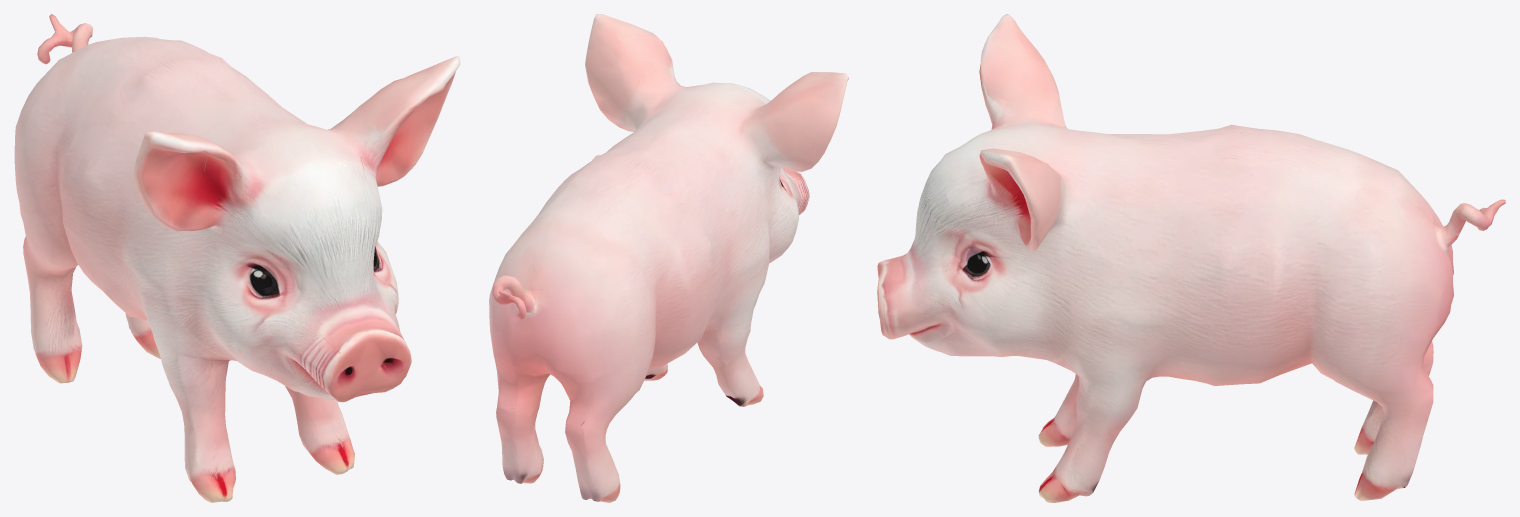
The model's file is big-ear-piglet.glb.
The picture shows the model from 3 angles, left to right: view 1: azimuth 30°, elevation 25°; view 2: azimuth 150°, elevation 25°; view 3: azimuth 270°, elevation 25°; orthographic projection. The views are drawn at different scales.
Size of the model in its own units: 1.04 by 1.31 by 1.91.
1 material, 1 textured.
